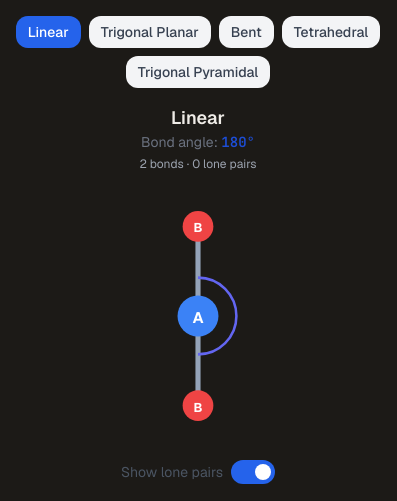
MolecularGeometry › renders trigonal pyramidal shape option
Click the button "Trigonal Pyramidal": click(198, 72) [126,56,270,88]
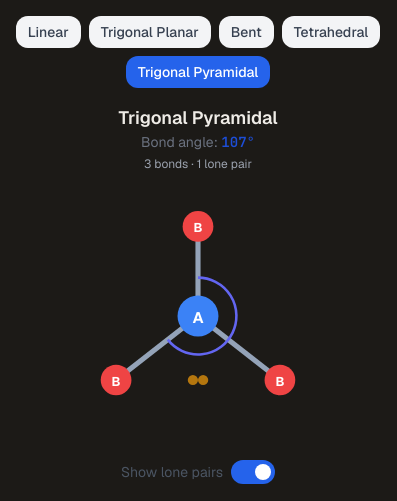
Now the text with test id "shape-name" reads "Trigonal Pyramidal", box [118,106,278,129]
